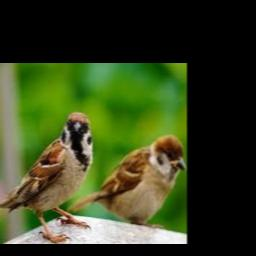Sparrow: (0, 112, 92, 243), (68, 135, 186, 228)
